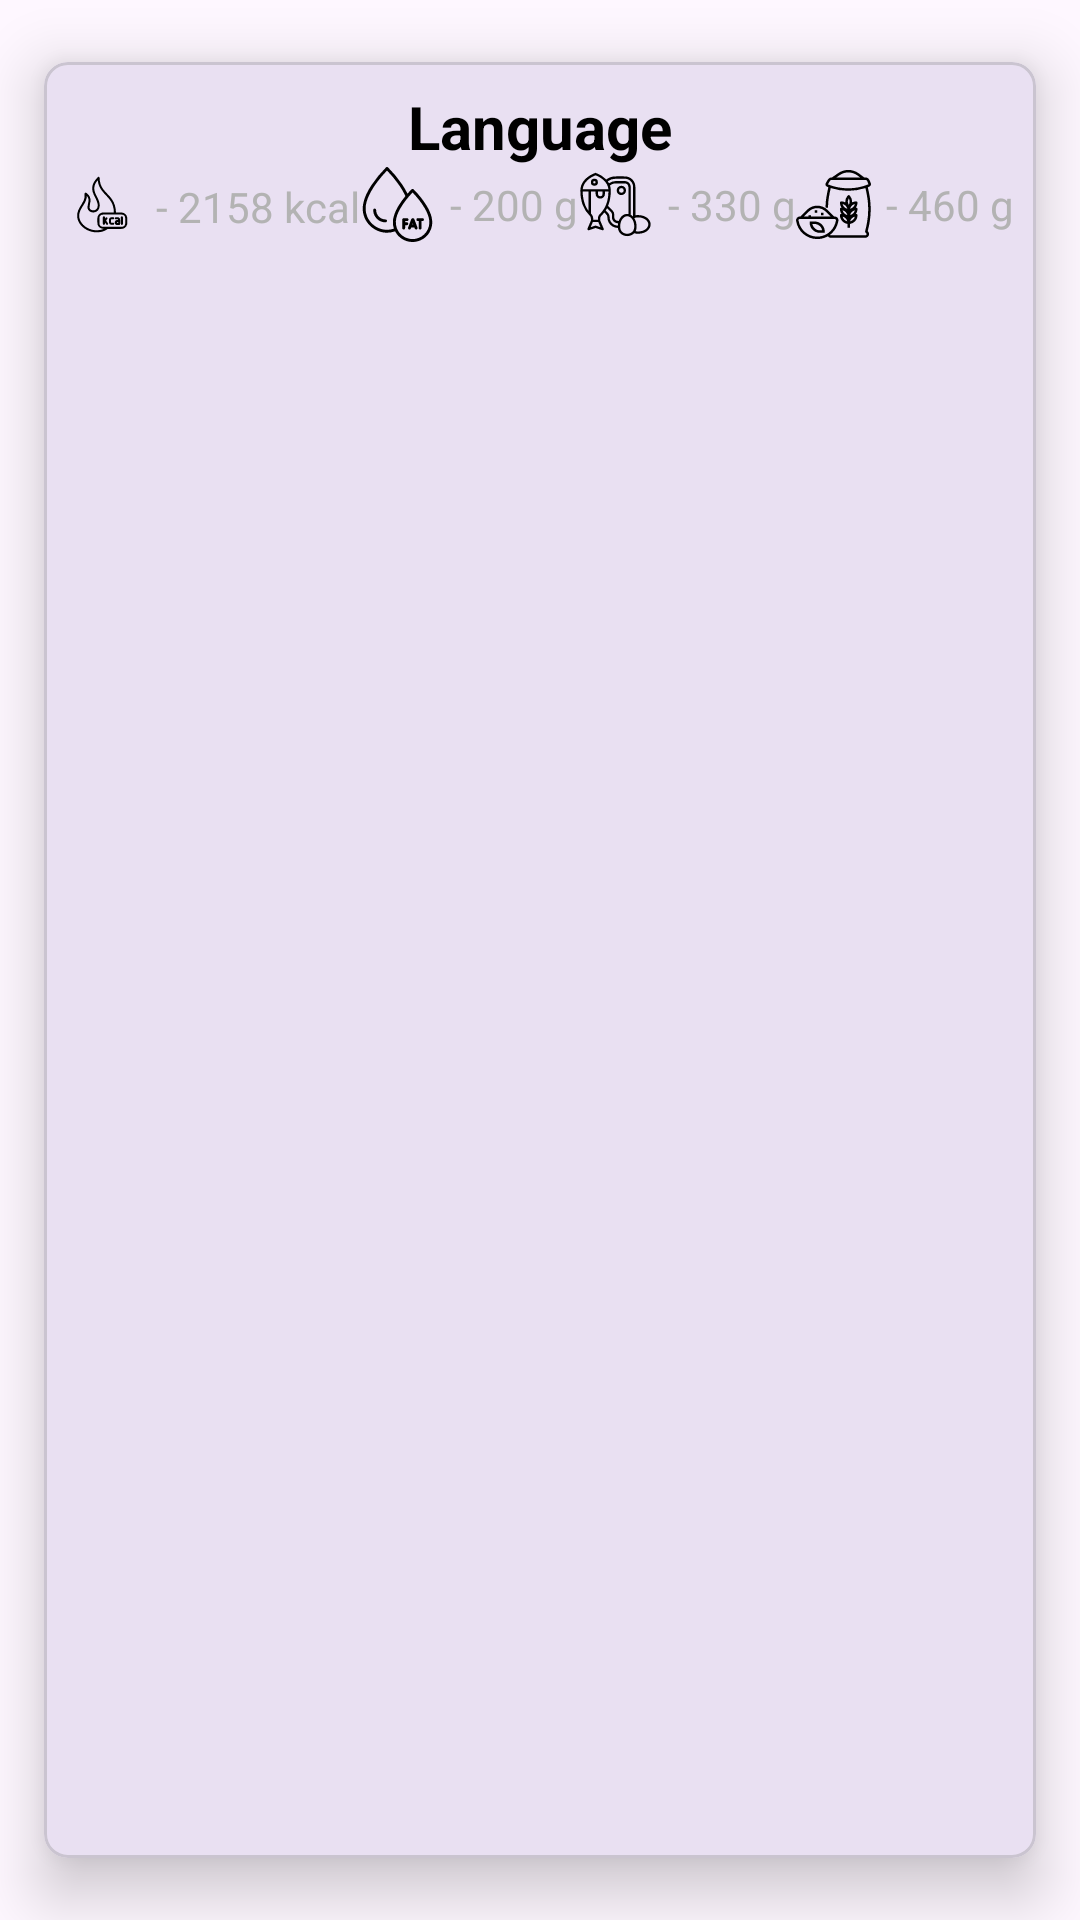

Icon click points for this 1080x1920 phone screenshot, format (x=x, y=y):
carb: (x=833, y=204)
protein: (x=615, y=204)
